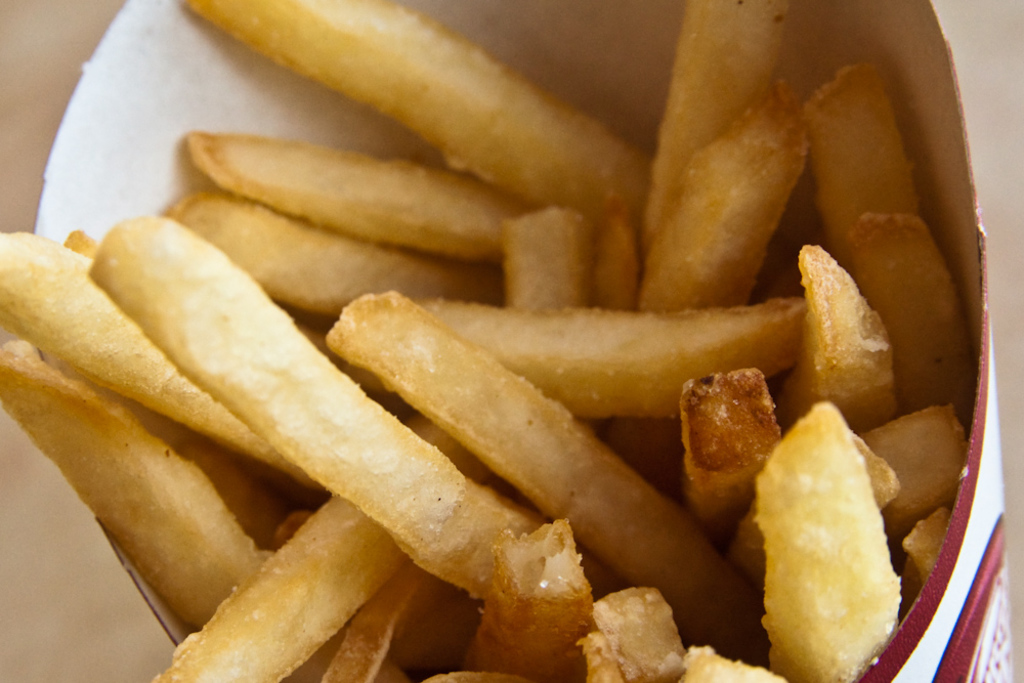French fries: (0, 0, 984, 681)
